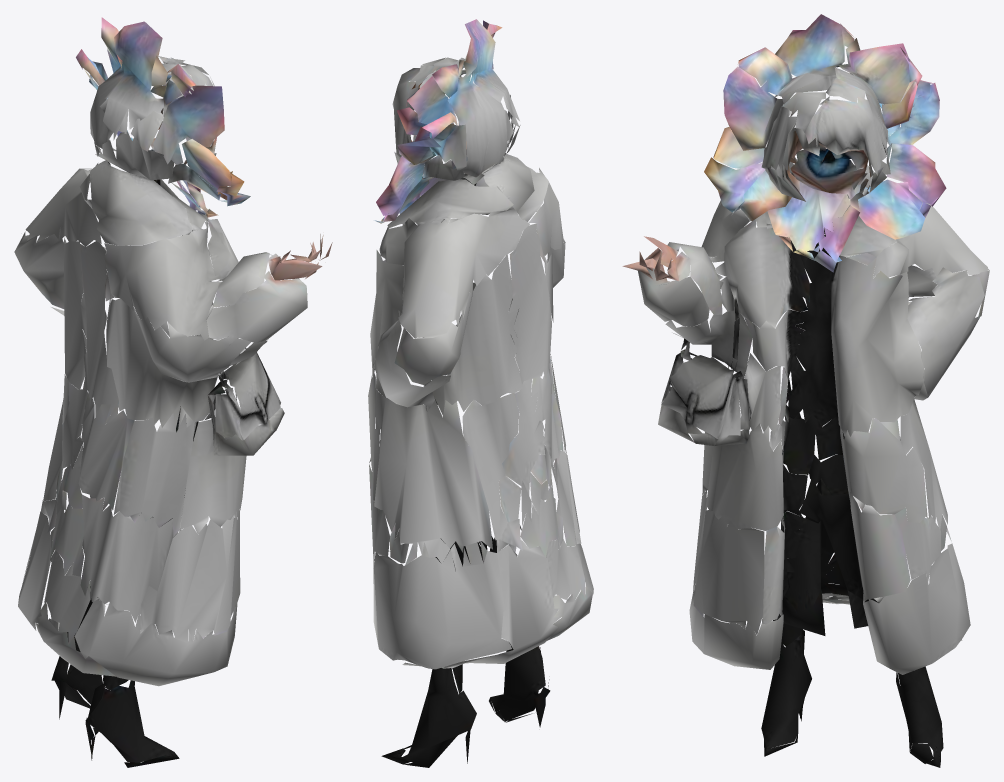
The model's file is cast_editor.glb.
The picture shows the model from 3 angles, left to right: view 1: azimuth 30°, elevation 25°; view 2: azimuth 150°, elevation 25°; view 3: azimuth 270°, elevation 25°; orthographic projection. The views are drawn at different scales.
Visible parts, largest first — view 1: tripo_node_bf9fb8a6-23f6-4862-ac37-375ab1056567; view 2: tripo_node_bf9fb8a6-23f6-4862-ac37-375ab1056567; view 3: tripo_node_bf9fb8a6-23f6-4862-ac37-375ab1056567.
Part boxes in pixels (x1,y1,x2,y2): tripo_node_bf9fb8a6-23f6-4862-ac37-375ab1056567: (14,17,332,767); tripo_node_bf9fb8a6-23f6-4862-ac37-375ab1056567: (368,19,593,767); tripo_node_bf9fb8a6-23f6-4862-ac37-375ab1056567: (622,14,989,767).
Bounding box in the file's own units: 0.2927 × 1 × 0.4499.
1 material, 1 textured.
